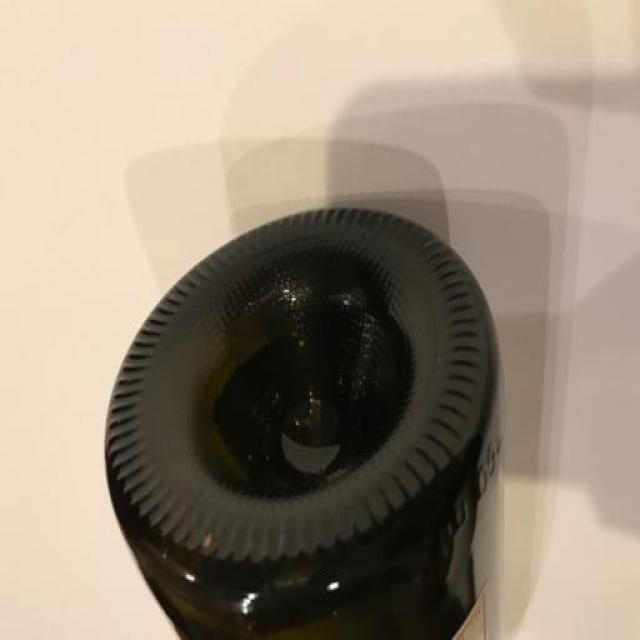Waste: (105, 208, 508, 640)
